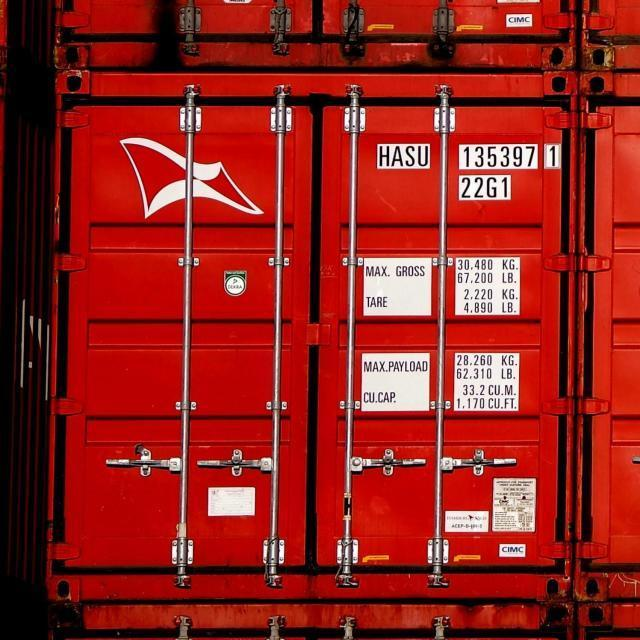ISO: (458, 176, 514, 202)
container_number: (380, 144, 560, 172)
